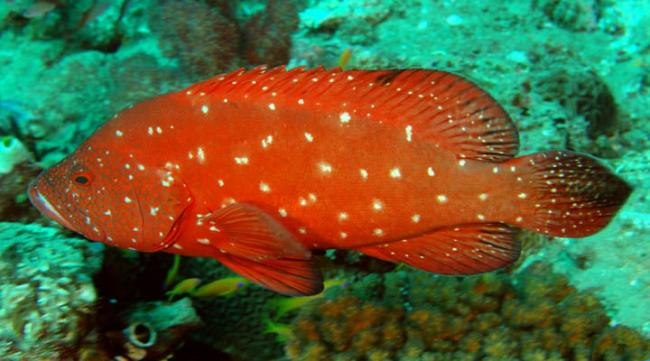fish: (27, 63, 635, 299)
